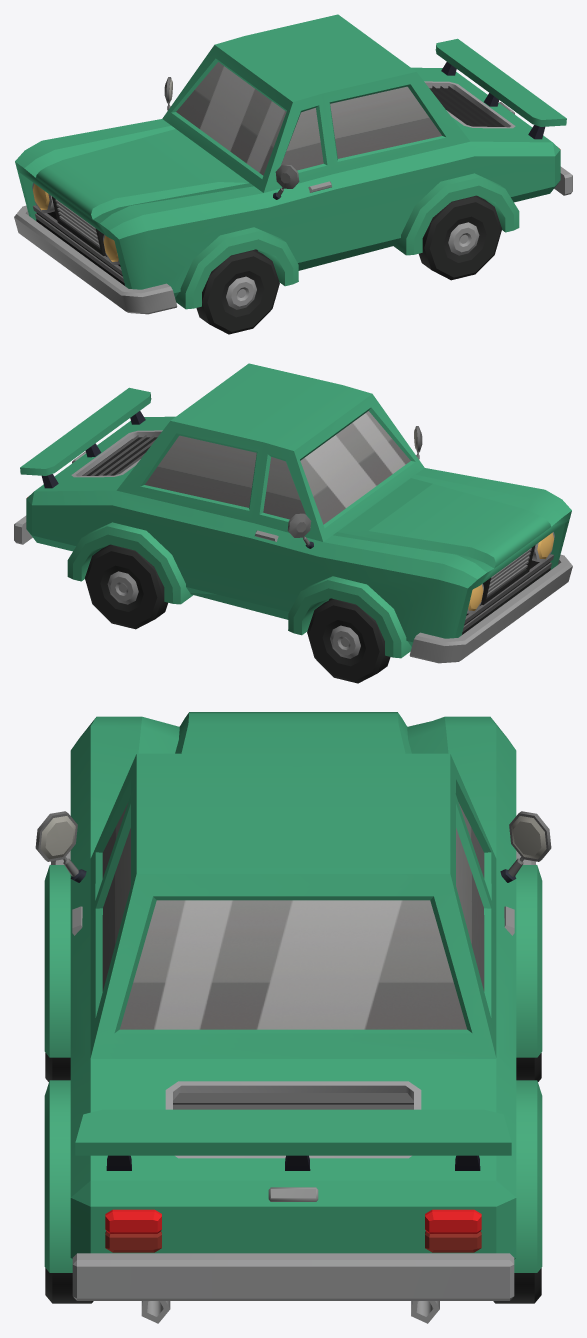
The model's file is Car_9_Y.gltf.
3 renders of one model, top to bottom at view 1: azimuth 30°, elevation 25°; view 2: azimuth 150°, elevation 25°; view 3: azimuth 270°, elevation 25°, orthographic. The views are drawn at different scales.
Visible parts, largest first — view 1: Car_9_Y, RL, FL; view 2: Car_9_Y, RR, FR; view 3: Car_9_Y, RL, RR.
Boxes of the visible parts, x1,y1,x2,y2 form: Car_9_Y: [14, 14, 572, 314]; RL: [419, 195, 501, 280]; FL: [196, 249, 279, 334]; Car_9_Y: [14, 363, 572, 663]; RR: [85, 544, 167, 629]; FR: [307, 598, 390, 683]; Car_9_Y: [35, 712, 551, 1323]; RL: [45, 1268, 93, 1303]; RR: [493, 1268, 541, 1303].
Bounding box in the file's own units: 3.1 × 1.28 × 1.51.
Materials: 4 (4 with a texture image).
